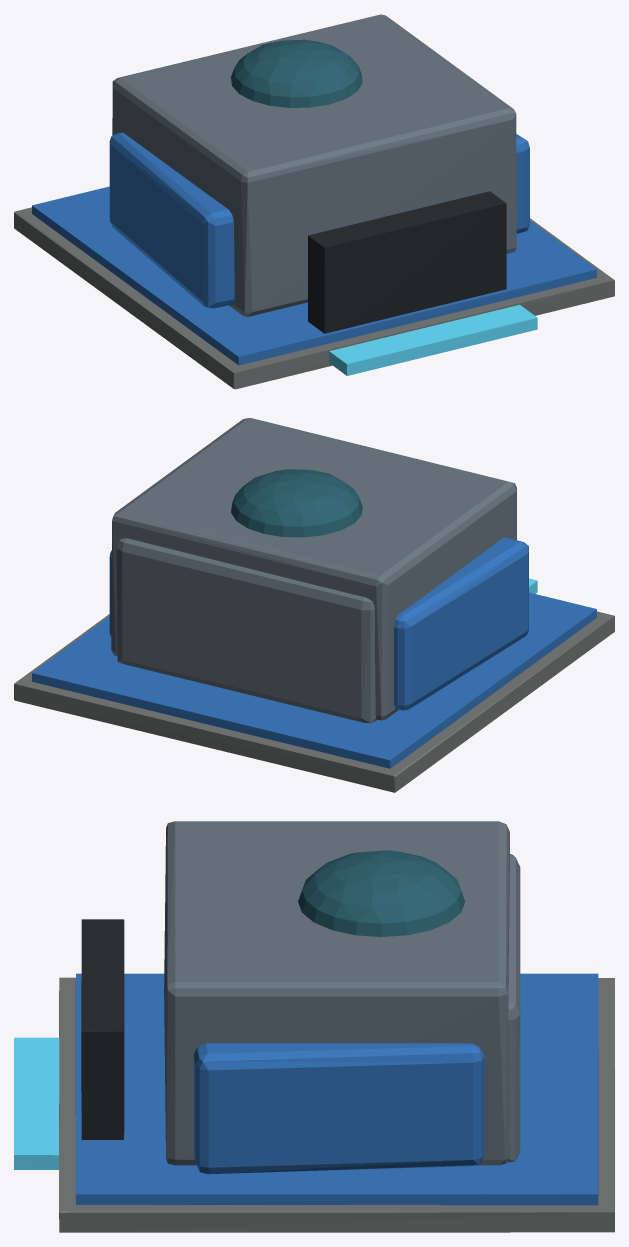
Rendered from SM_Alliance_AL_WarFactory_LOD1.fbx.
3 views of the same model, one above another, from view 1: azimuth 30°, elevation 25°; view 2: azimuth 150°, elevation 25°; view 3: azimuth 270°, elevation 25° (orthographic). The views are drawn at different scales.
Visible parts, largest first — view 1: LOD01_SM_Alliance_AL_WarFactory; view 2: LOD01_SM_Alliance_AL_WarFactory; view 3: LOD01_SM_Alliance_AL_WarFactory.
Boxes of the visible parts, box(x1,y1,x2,y2) form: LOD01_SM_Alliance_AL_WarFactory: box(14, 14, 614, 389); LOD01_SM_Alliance_AL_WarFactory: box(14, 418, 614, 792); LOD01_SM_Alliance_AL_WarFactory: box(14, 821, 614, 1232).
Bounding box in the file's own units: 797 × 862 × 399.
